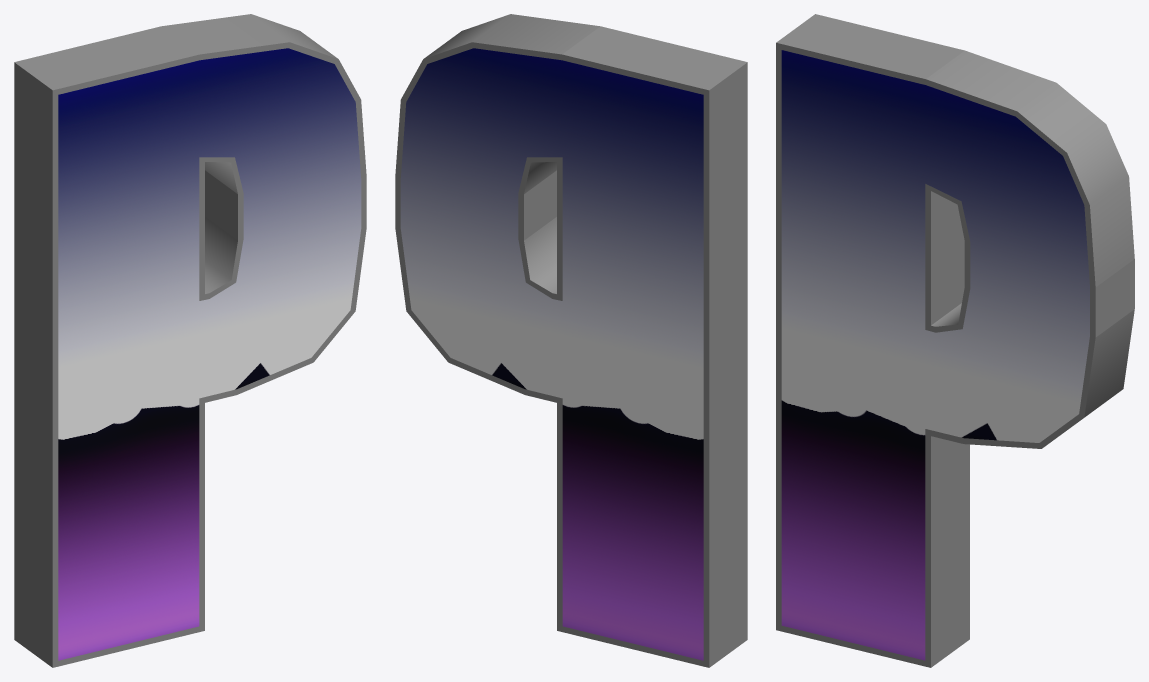
3 views of the same model, side by side, from view 1: azimuth 30°, elevation 25°; view 2: azimuth 150°, elevation 25°; view 3: azimuth 330°, elevation 25° (orthographic).
Visible parts, largest first — view 1: P, P_outline; view 2: P, P_outline; view 3: P, P_outline.
Part boxes in pixels (<box>): P: <box>58,48,361,660</box>; P_outline: <box>14,14,366,667</box>; P: <box>400,48,703,660</box>; P_outline: <box>395,14,747,667</box>; P: <box>781,50,1089,660</box>; P_outline: <box>776,14,1134,667</box>.
Size of the model in its own units: 56.45 by 99.2 by 12.
Materials: 2 (1 with a texture image).
